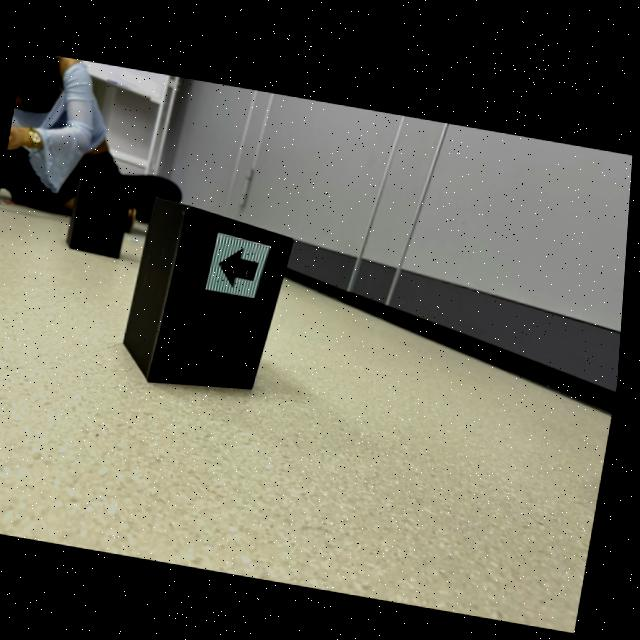LEFT: (222, 244, 261, 281)
